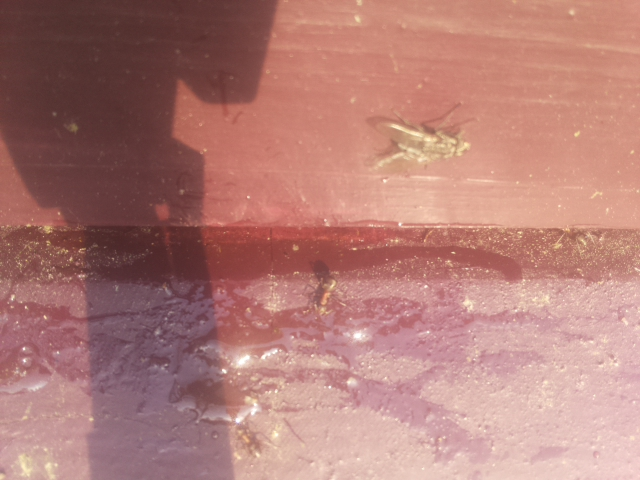ant: (306, 258, 344, 316), (204, 68, 243, 119), (236, 424, 263, 461)
